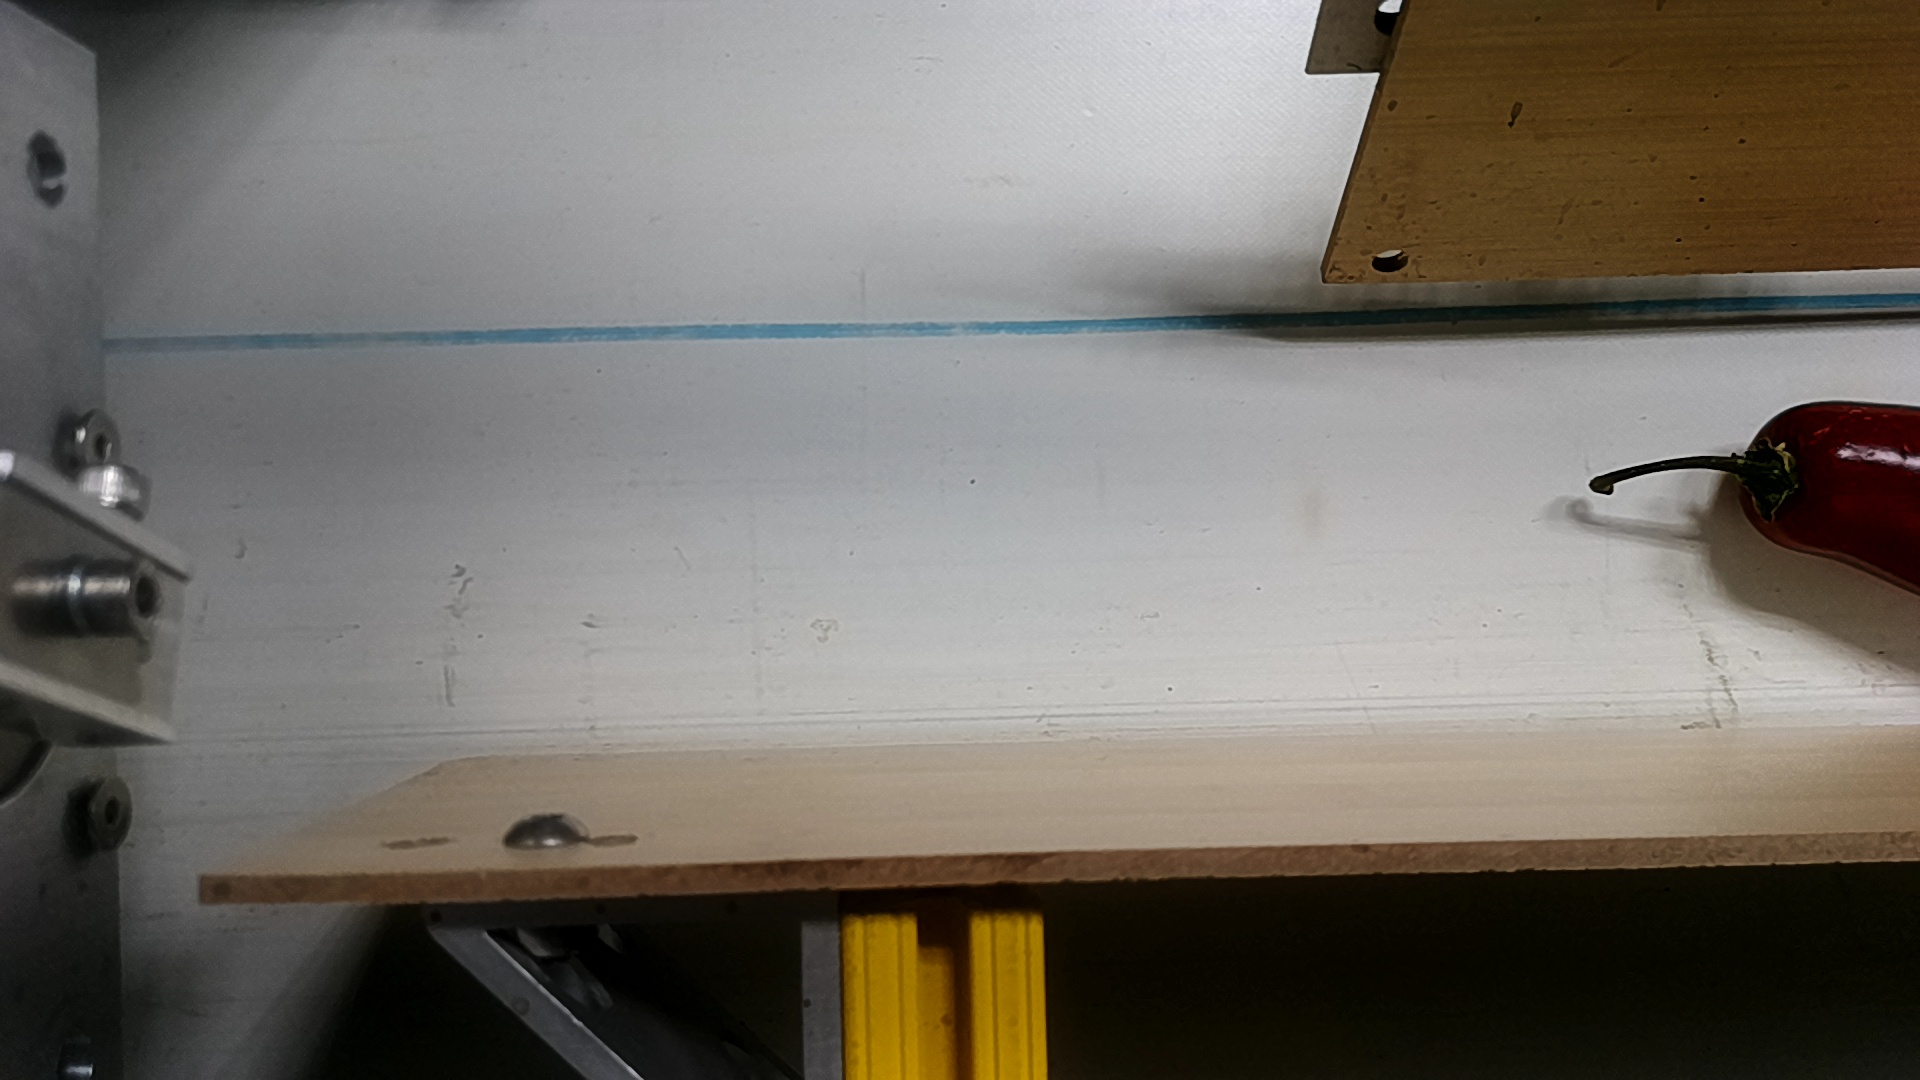Cut Point: (1721, 396, 1846, 555)
